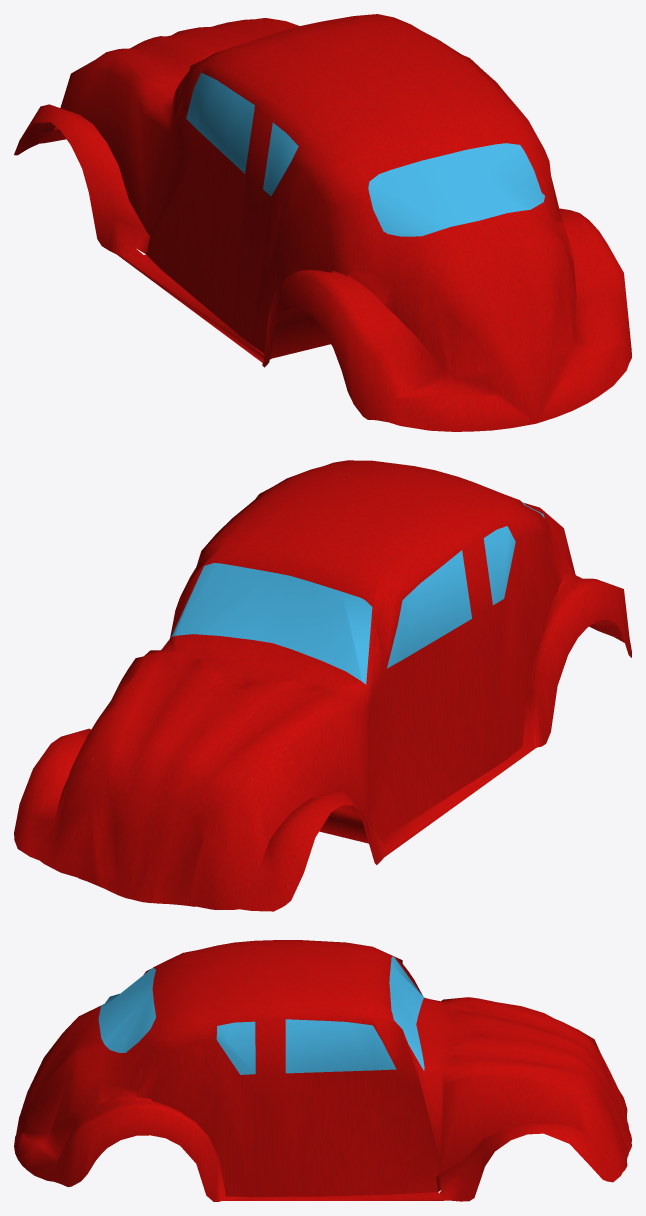
Rendered from beetle.fbx.
3 views of the same model, one above another, from view 1: azimuth 30°, elevation 25°; view 2: azimuth 150°, elevation 25°; view 3: azimuth 270°, elevation 25° (orthographic). The views are drawn at different scales.
Visible parts, largest first — view 1: beetle; view 2: beetle; view 3: beetle.
Boxes of the visible parts, bbox=[...] form: beetle: bbox=[14, 14, 631, 431]; beetle: bbox=[14, 460, 631, 911]; beetle: bbox=[14, 940, 631, 1201].
Size of the model in its own units: 3.74 by 3.06 by 9.14.
